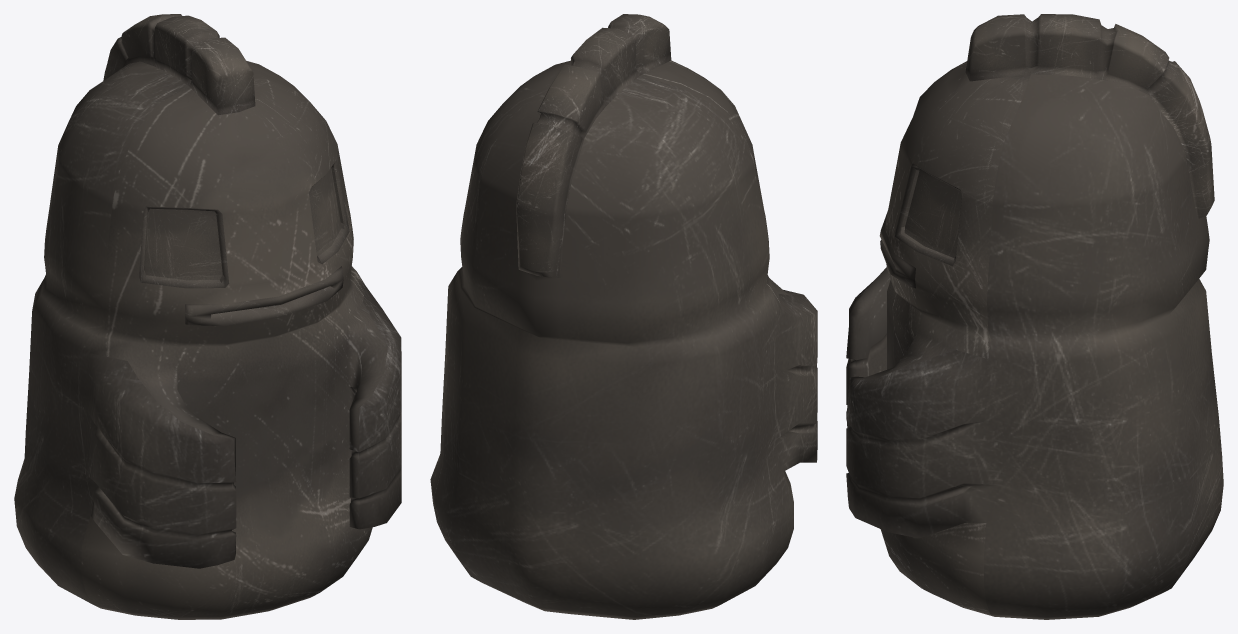
Rendered from Fish_Statue_1.fbx.
The picture shows the model from 3 angles, left to right: view 1: azimuth 30°, elevation 25°; view 2: azimuth 150°, elevation 25°; view 3: azimuth 270°, elevation 25°; orthographic projection.
Visible parts, largest first — view 1: pCylinder3; view 2: pCylinder3; view 3: pCylinder3.
Part boxes in pixels (bbox=[...]): pCylinder3: bbox=[14, 14, 401, 619]; pCylinder3: bbox=[430, 14, 817, 619]; pCylinder3: bbox=[846, 14, 1223, 619].
Bounding box in the file's own units: 3.79 × 6.15 × 3.91.
